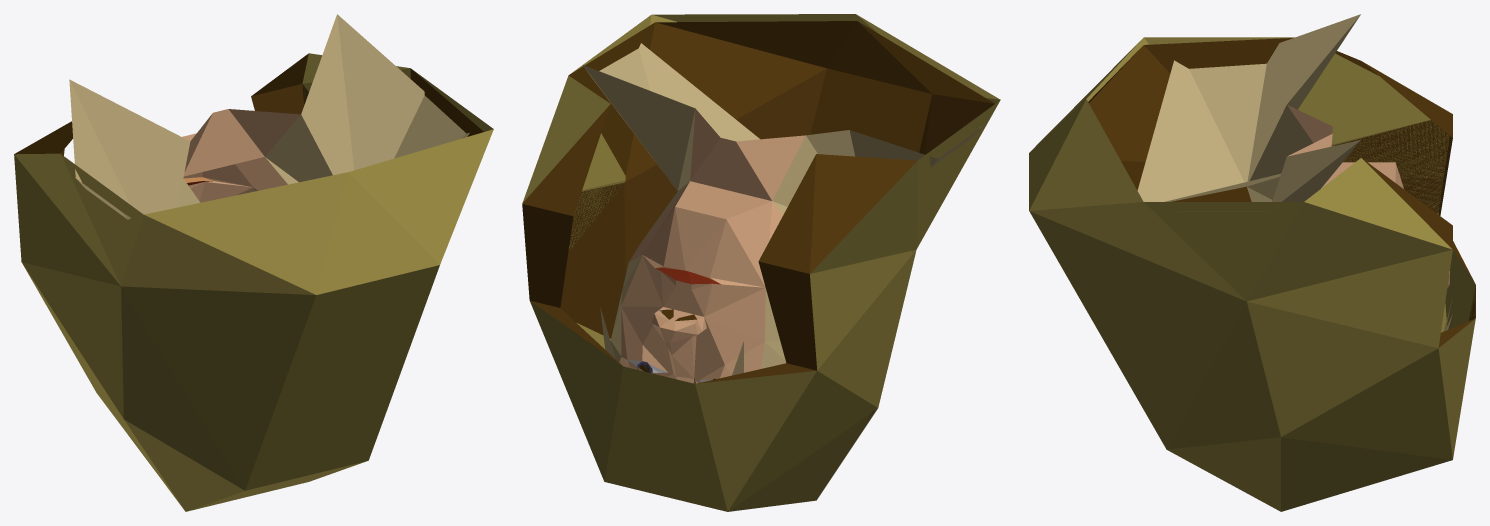
The picture shows the model from 3 angles, left to right: view 1: azimuth 30°, elevation 25°; view 2: azimuth 150°, elevation 25°; view 3: azimuth 270°, elevation 25°; orthographic projection. The views are drawn at different scales.
Size of the model in its own units: 1.07 by 1.22 by 1.22.
